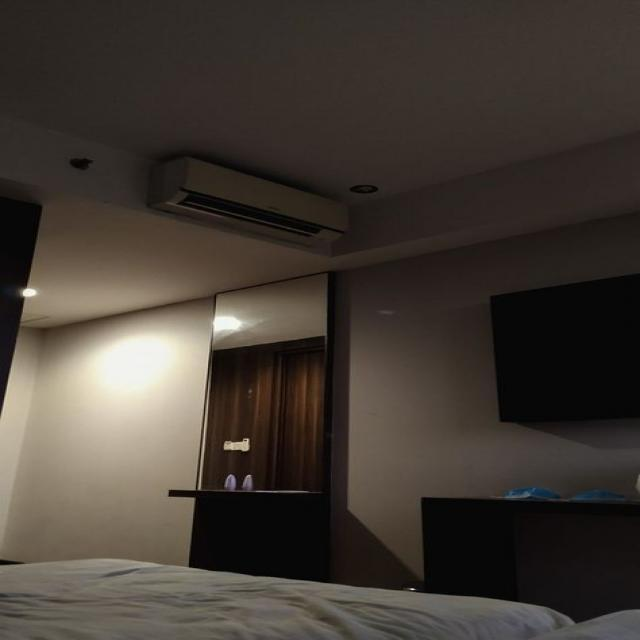AC: (145, 154, 349, 248)
